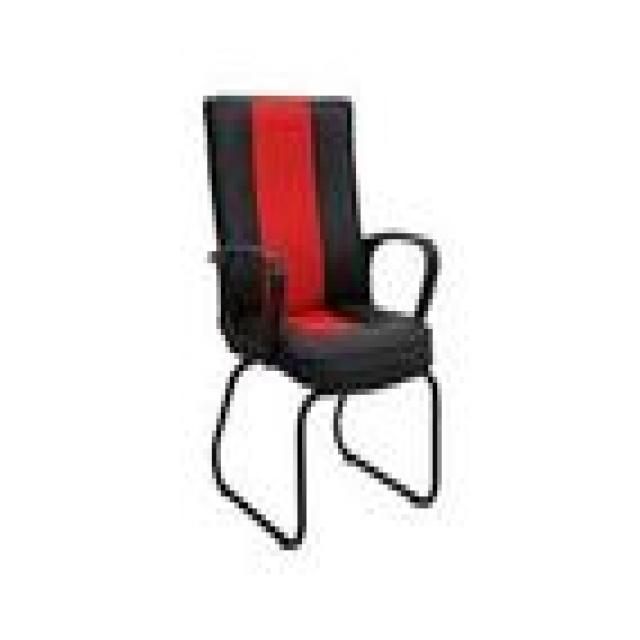others: (185, 78, 473, 538)
